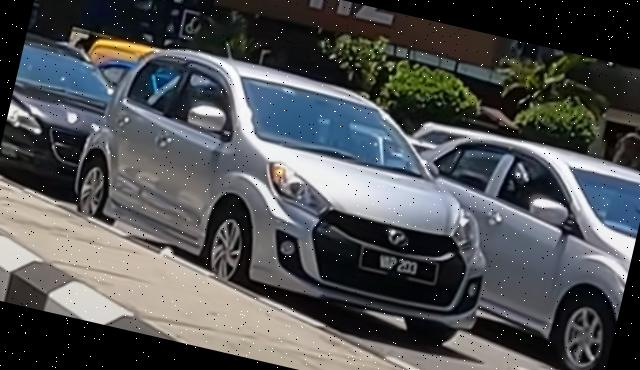License_Plate: (361, 246, 439, 286)
car: (57, 28, 523, 353)
